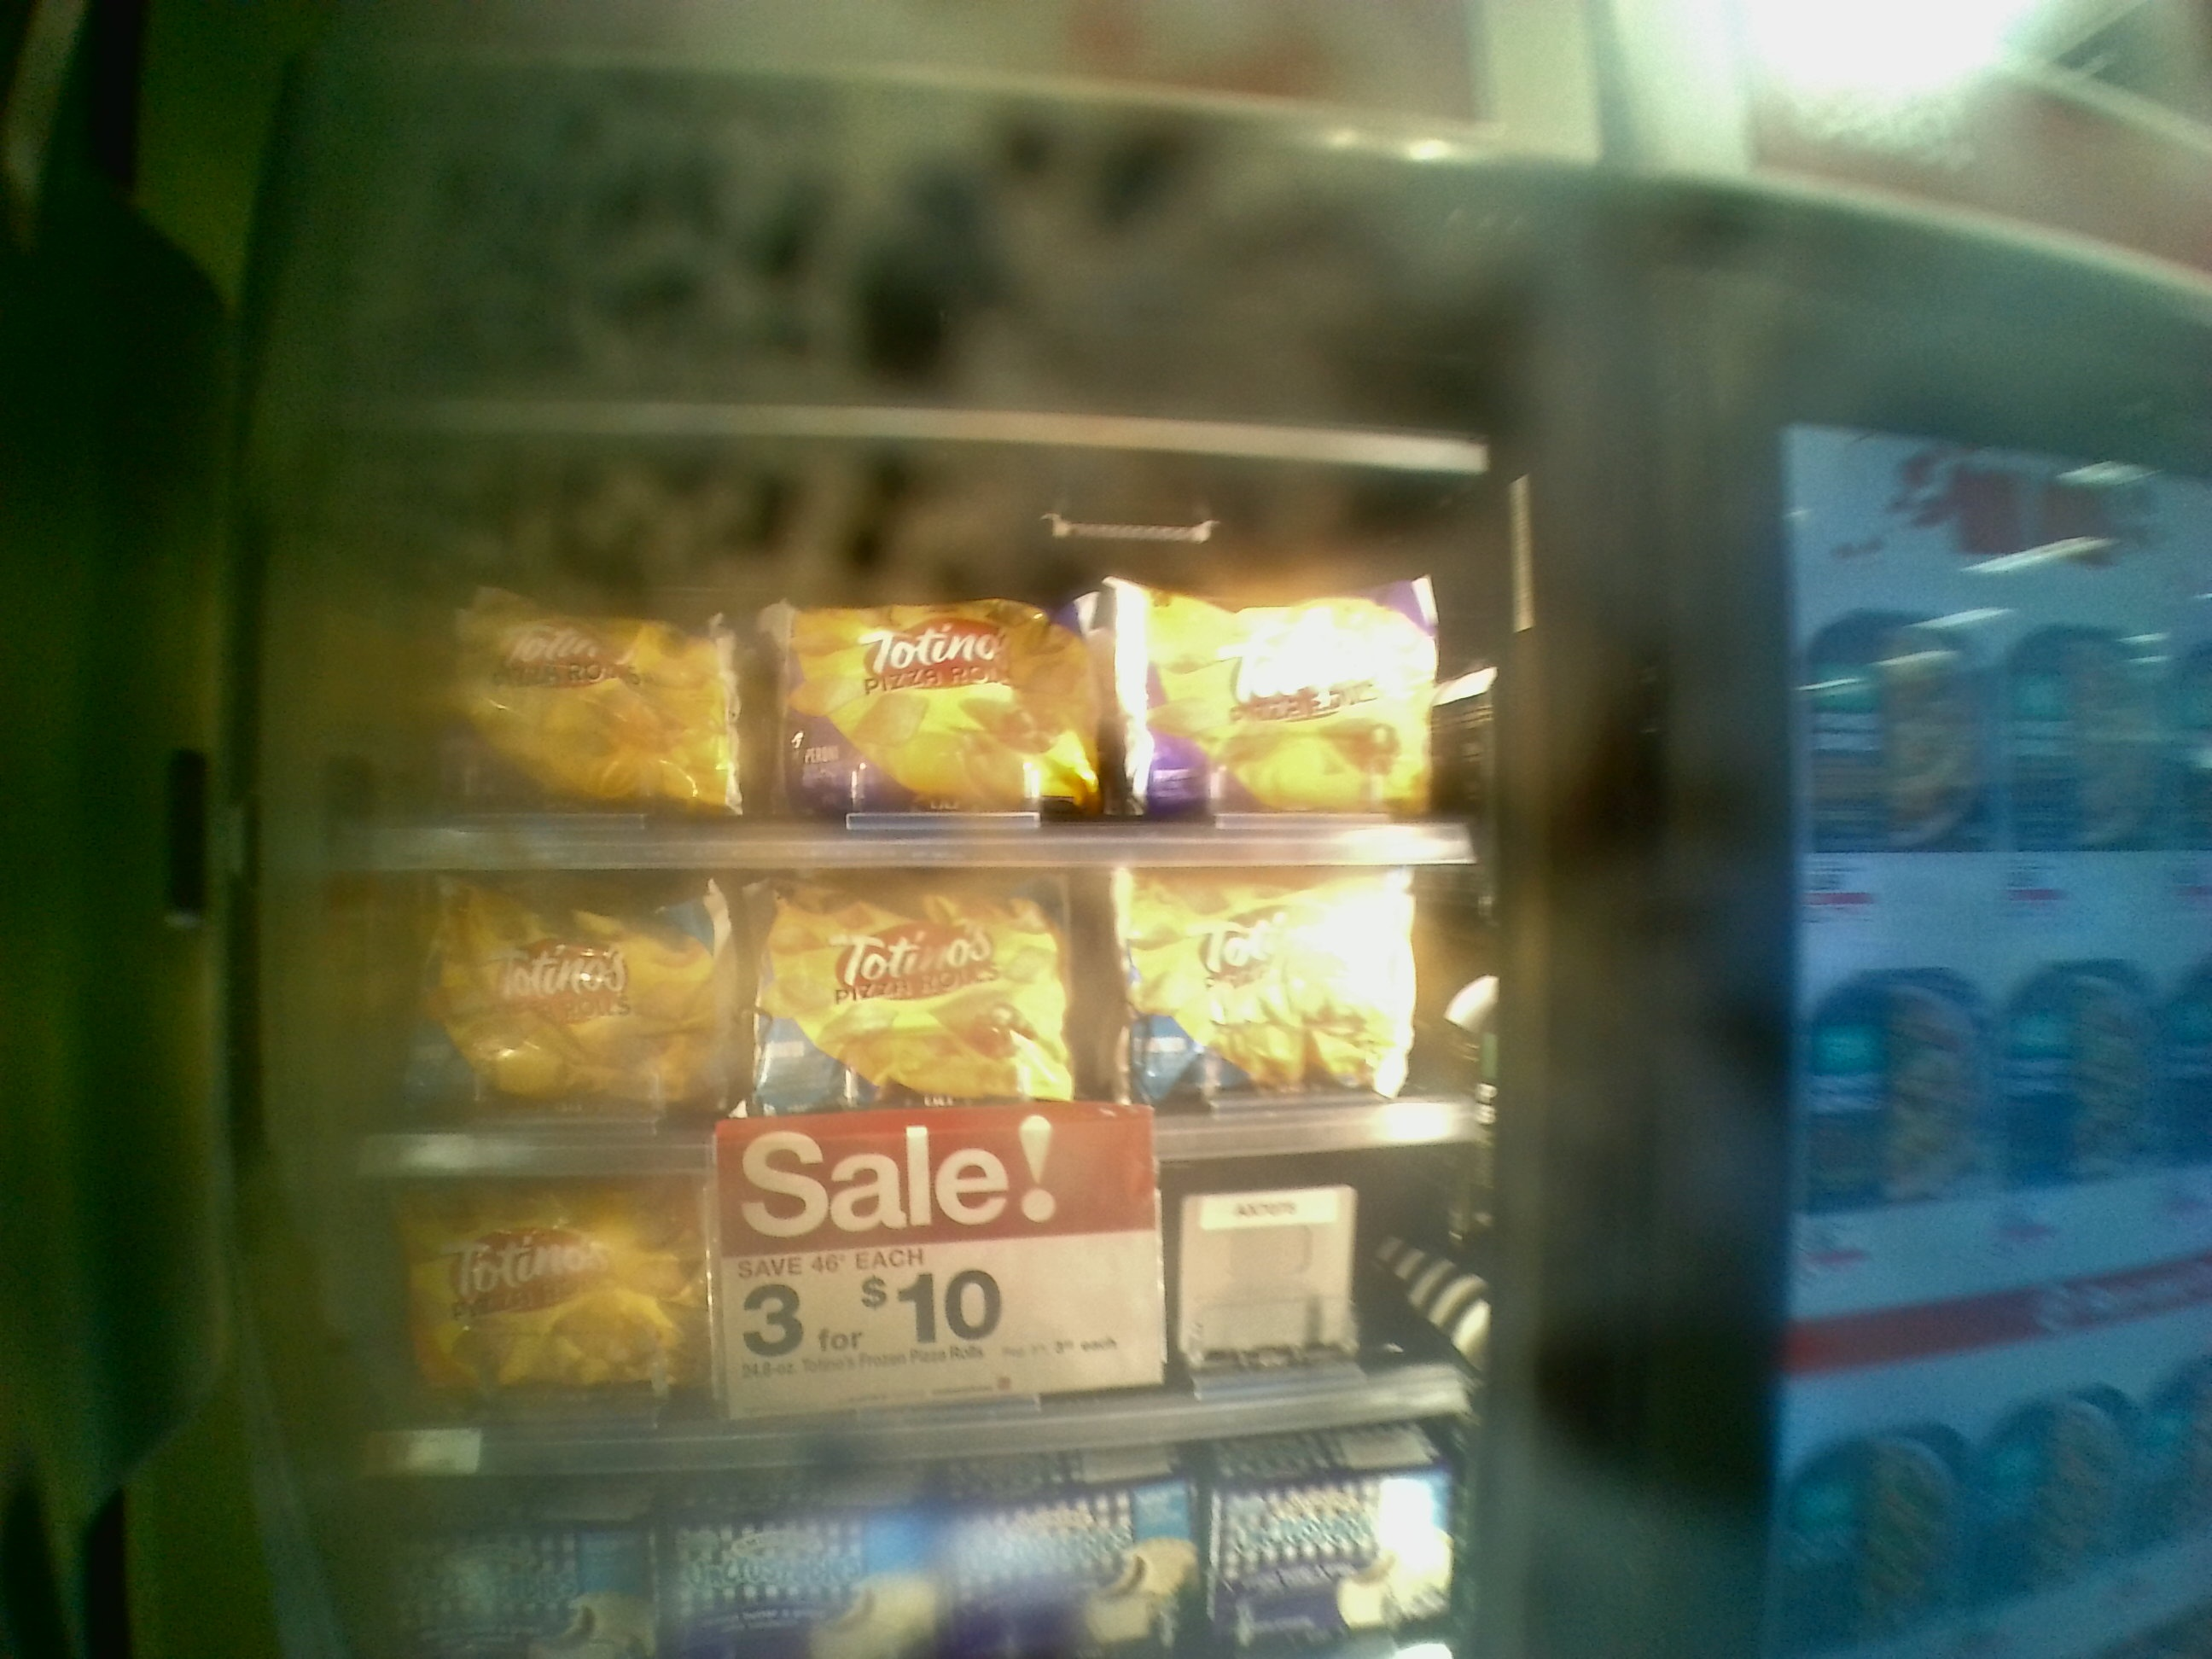shelf: (341, 852, 1477, 1176), (315, 1173, 1468, 1438)
